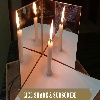fire: (49, 19, 56, 45)
